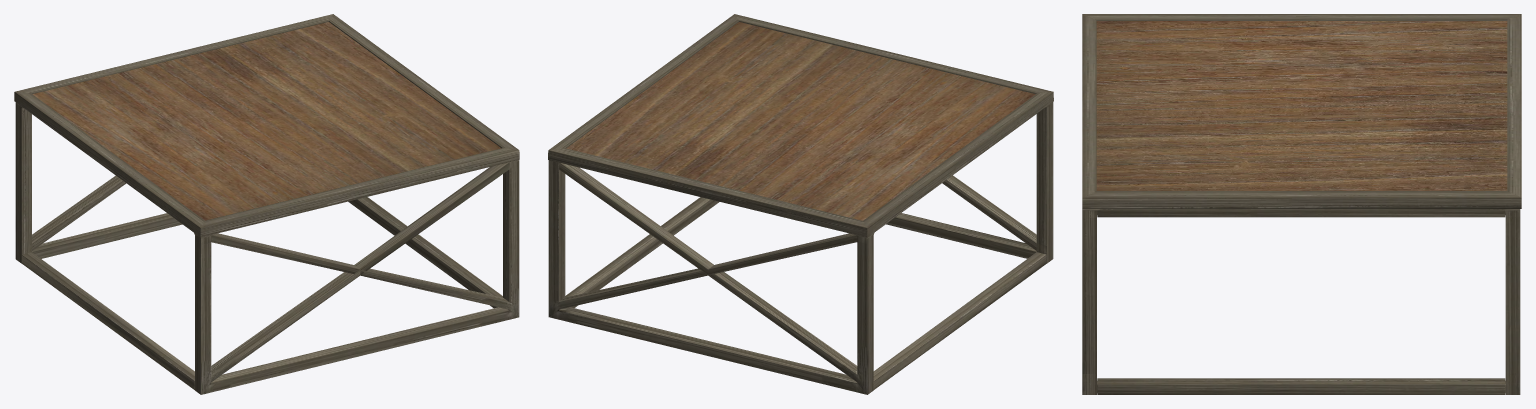
File: abo-b075z8m2bw.5e9182f400.glb
The picture shows the model from 3 angles, left to right: view 1: azimuth 30°, elevation 25°; view 2: azimuth 150°, elevation 25°; view 3: azimuth 270°, elevation 25°; orthographic projection. The views are drawn at different scales.
Visible parts, largest first — view 1: RootNode; view 2: RootNode; view 3: RootNode.
Part boxes in pixels (x1,y1,x2,y2): RootNode: [14, 14, 519, 394]; RootNode: [548, 14, 1053, 394]; RootNode: [1082, 14, 1521, 394].
Size of the model in its own units: 0.8988 by 0.4512 by 0.9087.
Materials: 1 (1 with a texture image).
